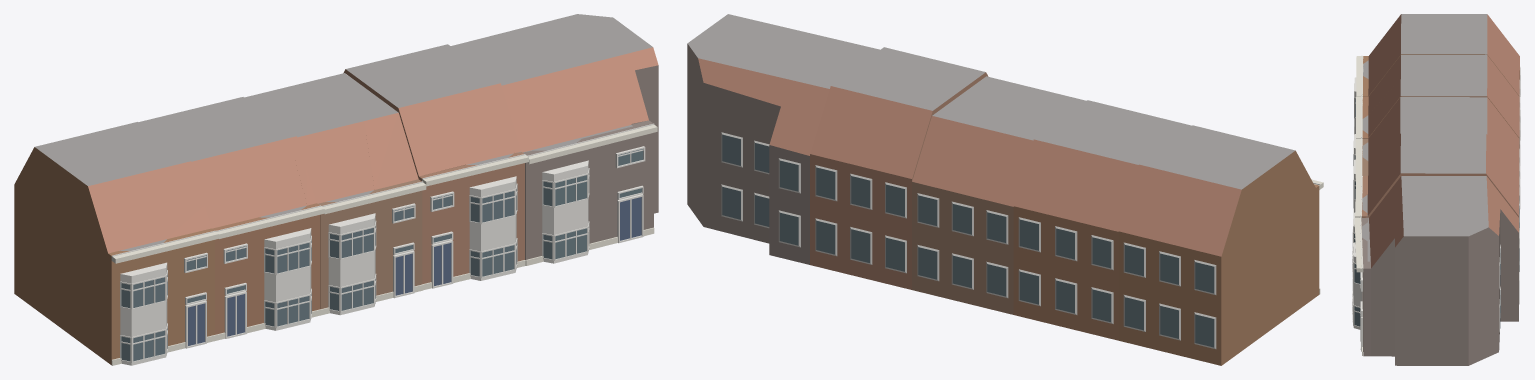
The model's file is chunk-face-reij-25-39-r1.glb.
3 renders of one model, left to right at view 1: azimuth 30°, elevation 25°; view 2: azimuth 150°, elevation 25°; view 3: azimuth 270°, elevation 25°, orthographic. The views are drawn at different scales.
Parts seen in each view (by area): view 1: face-reij-25-39-r1; view 2: face-reij-25-39-r1; view 3: face-reij-25-39-r1.
Part boxes in pixels (<box>): face-reij-25-39-r1: <box>14,14,658,365</box>; face-reij-25-39-r1: <box>687,14,1323,365</box>; face-reij-25-39-r1: <box>1352,14,1520,365</box>.
Bounding box in the file's own units: 31.4 × 8.69 × 10.04.
